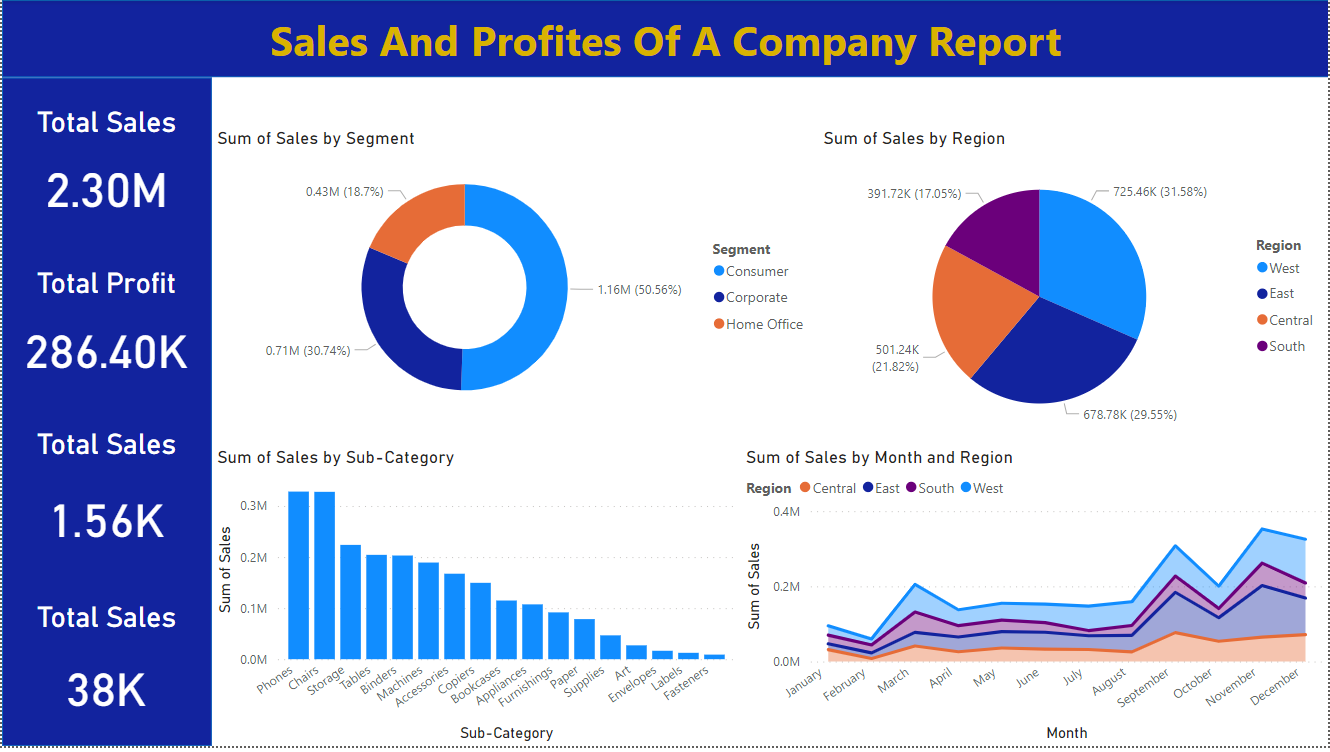

The dashboard page shown, as its layout file describes it:
{"tool":"powerbi","page":{"name":"Page 1","canvas":[1280,720],"ordinal":0},"visuals":[{"type":"shape","box":[0,0,1280.6,74.6],"z":0},{"type":"shape","box":[0,75,202.5,645],"z":1000},{"type":"card","title":"Total Sales","fields":{"Values":["Sum(TechnoEdge Monthy Sales Data.Sales)"]},"box":[9.6,101.3,182.1,124.2],"z":2000},{"type":"card","title":"Total Profit","fields":{"Values":["Sum(TechnoEdge Monthy Sales Data.Profit)"]},"box":[9.6,256.9,182.1,124.2],"z":3000},{"type":"card","title":"Total Sales","fields":{"Values":["Sum(TechnoEdge Monthy Sales Data.Discount)"]},"box":[9.6,412.5,182.1,139.9],"z":4000},{"type":"card","title":"Total Sales","fields":{"Values":["Sum(TechnoEdge Monthy Sales Data.Quantity)"]},"box":[9.6,578.9,182.1,131.5],"z":5000},{"type":"stackedAreaChart","fields":{"Category":["TechnoEdge Monthy Sales Data.Order Date.Variation.Date Hierarchy.Year","TechnoEdge Monthy Sales Data.Order Date.Variation.Date Hierarchy.Quarter","TechnoEdge Monthy Sales Data.Order Date.Variation.Date Hierarchy.Month","TechnoEdge Monthy Sales Data.Order Date.Variation.Date Hierarchy.Day"],"Y":["Sum(TechnoEdge Monthy Sales Data.Sales)"],"Series":["TechnoEdge Monthy Sales Data.Region"]},"box":[712.8,430.6,566.8,289.4],"z":6000},{"type":"clusteredColumnChart","fields":{"Category":["TechnoEdge Monthy Sales Data.Sub-Category"],"Y":["Sum(TechnoEdge Monthy Sales Data.Sales)"]},"box":[202.6,430.6,510.2,289.4],"z":6001},{"type":"pieChart","fields":{"Category":["TechnoEdge Monthy Sales Data.Region"],"Y":["Sum(TechnoEdge Monthy Sales Data.Sales)"]},"box":[787.5,123,492.1,307.5],"z":6002},{"type":"donutChart","fields":{"Category":["TechnoEdge Monthy Sales Data.Segment"],"Y":["Sum(TechnoEdge Monthy Sales Data.Sales)"]},"box":[202.6,123,584.9,289.4],"z":6003}]}

Visuals, with their boxes in screenshot pixels (x1, y1, x2, y2), scaled from the page's 1280x720 canvas onto the 1330x752 screenshot:
shape: bbox(0, 0, 1329, 78)
shape: bbox(0, 78, 210, 751)
"Total Sales" card: bbox(10, 106, 199, 236)
"Total Profit" card: bbox(10, 268, 199, 398)
"Total Sales" card: bbox(10, 431, 199, 577)
"Total Sales" card: bbox(10, 605, 199, 742)
stackedAreaChart - TechnoEdge Monthy Sales Data.Order Date.Variation.Date Hierarchy.Year x TechnoEdge Monthy Sales Data.Order Date.Variation.Date Hierarchy.Quarter: bbox(741, 450, 1329, 751)
clusteredColumnChart - TechnoEdge Monthy Sales Data.Sub-Category x Sum(TechnoEdge Monthy Sales Data.Sales): bbox(211, 450, 741, 751)
pieChart - TechnoEdge Monthy Sales Data.Region x Sum(TechnoEdge Monthy Sales Data.Sales): bbox(818, 128, 1329, 450)
donutChart - TechnoEdge Monthy Sales Data.Segment x Sum(TechnoEdge Monthy Sales Data.Sales): bbox(211, 128, 818, 431)
